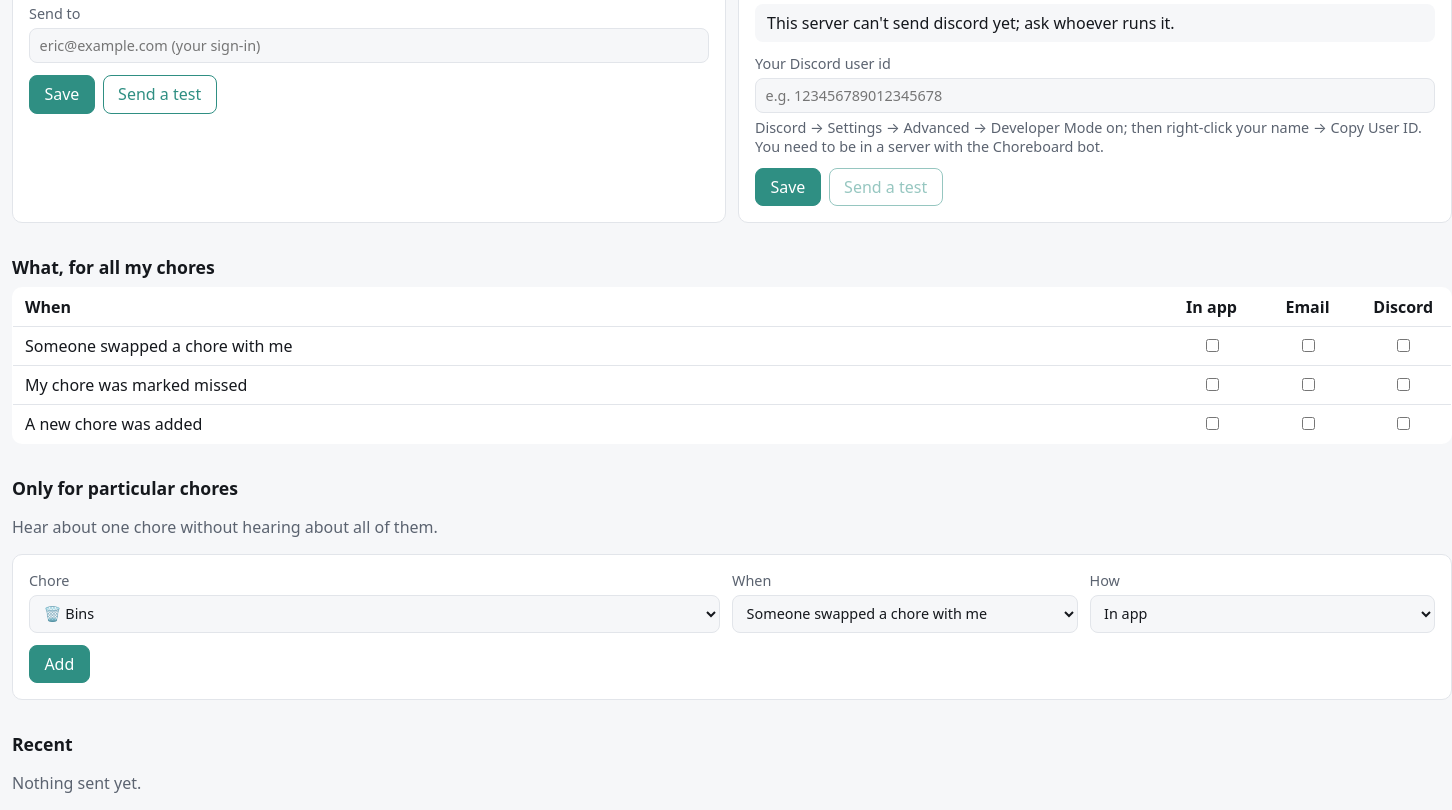
Test case: notifications › adds a notification for one chore only, offering only per-person events
(page scrolled)
Select "My chore was marked missed" in the dropdown labelled "When" at (905, 614), box [732,595,1078,632]
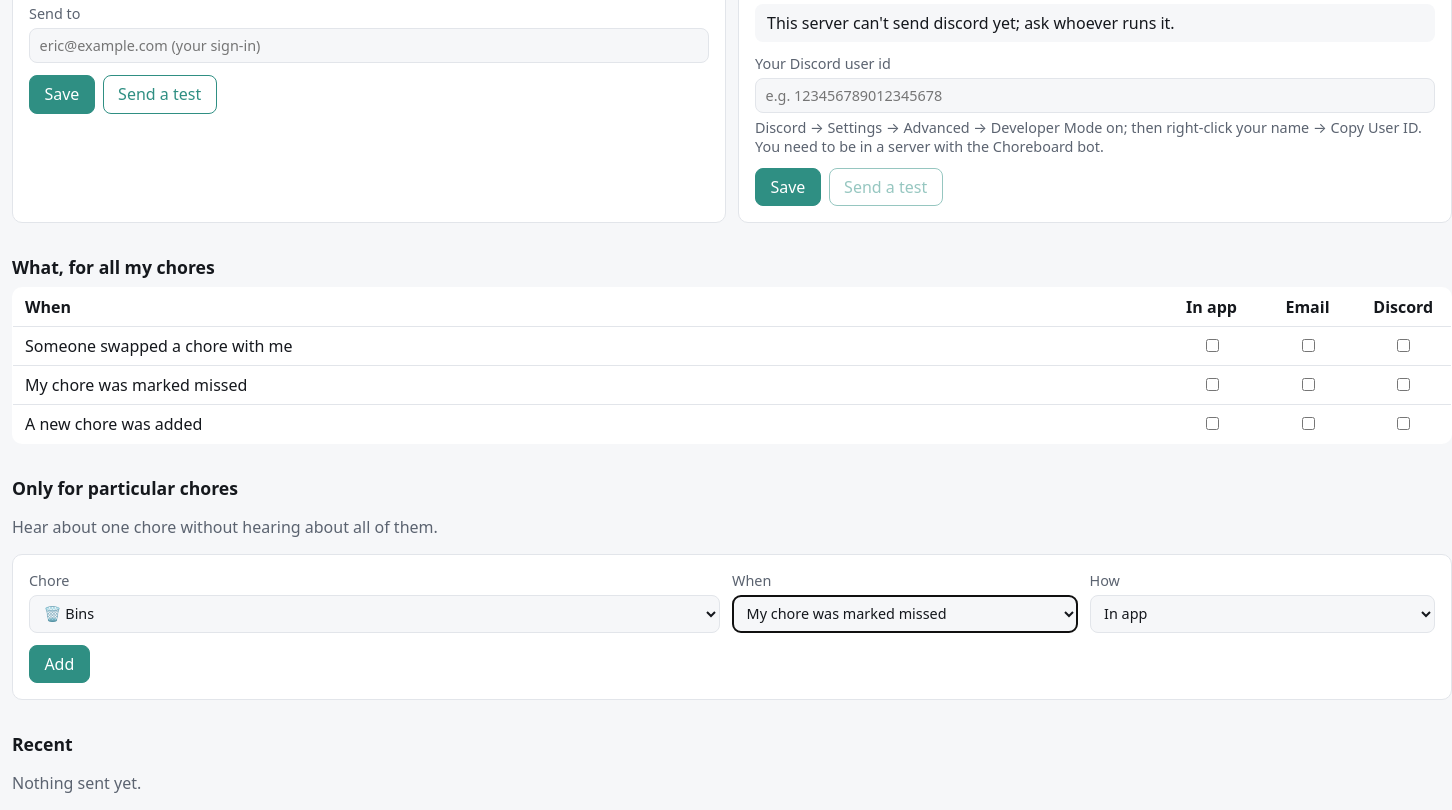
Click the button "Add" at (59, 664), box [29,644,90,683]
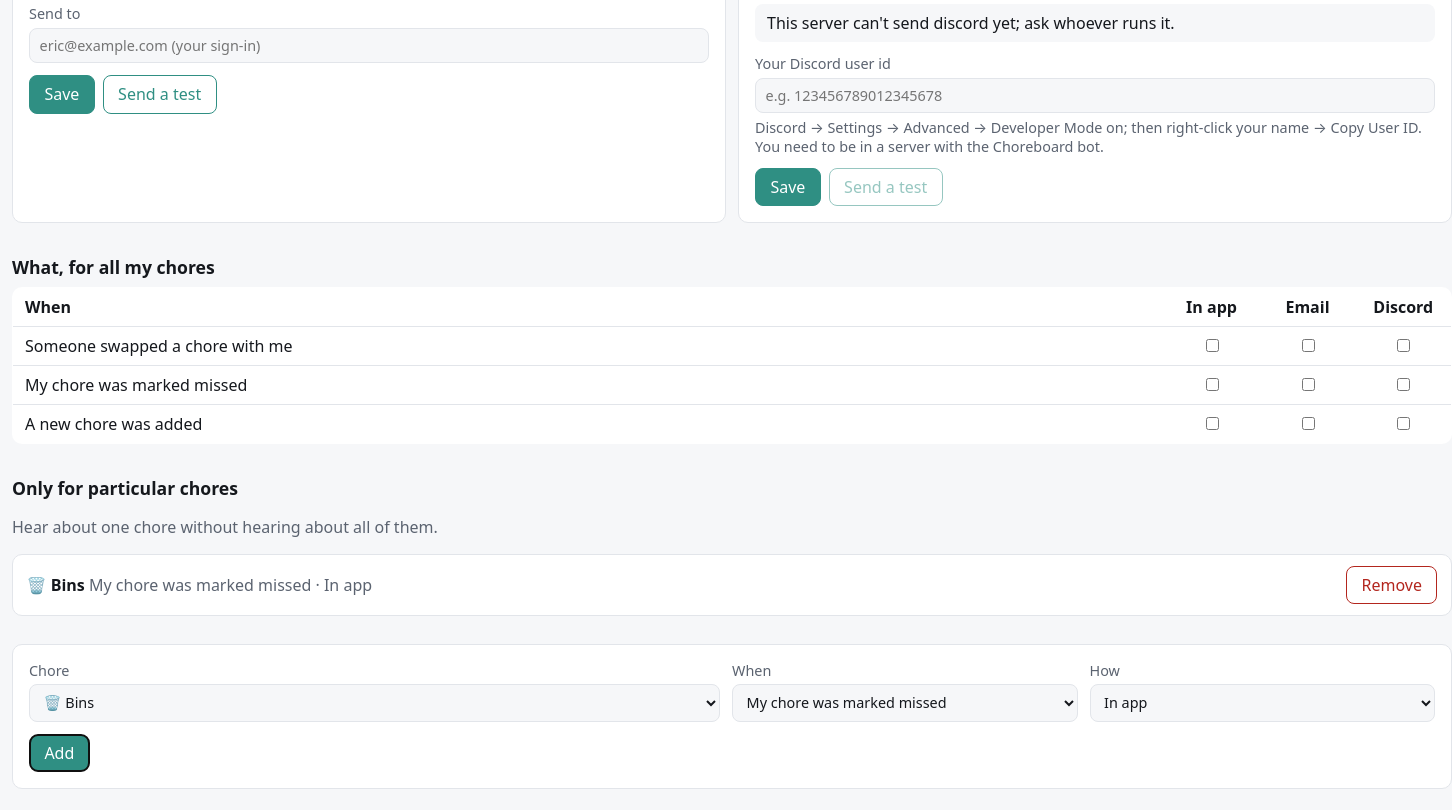
Check: the list named "Per-chore notifications" shows "Bins", box [27,574,85,596]
